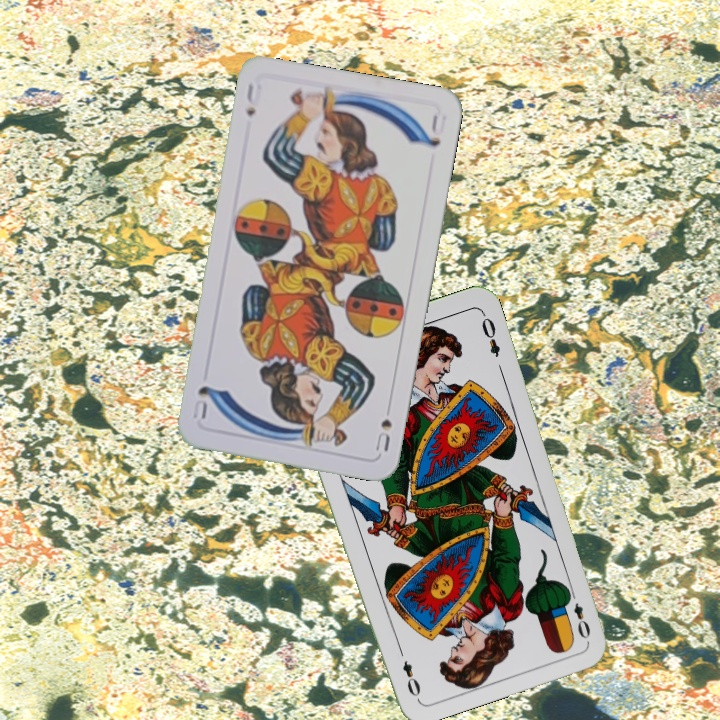EO: (563, 585, 593, 642)
SU: (371, 415, 395, 454), (242, 79, 264, 119)
